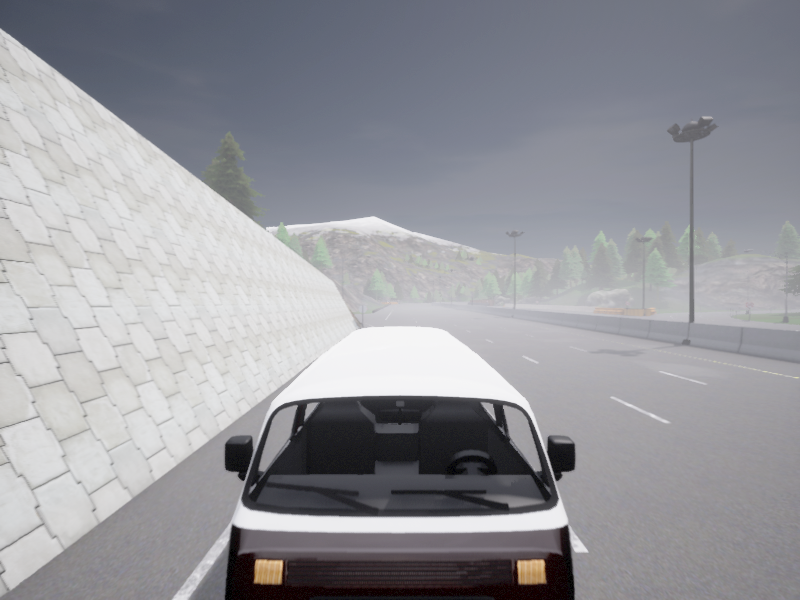vehicle: (225, 327, 574, 599)
